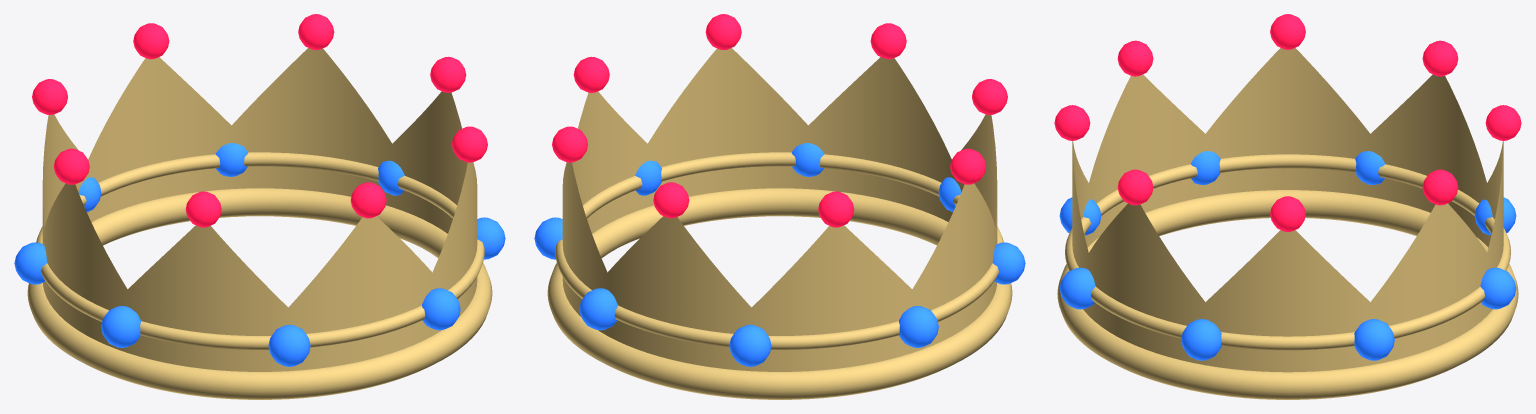
File: crown.glb
3 views of the same model, side by side, from view 1: azimuth 30°, elevation 25°; view 2: azimuth 150°, elevation 25°; view 3: azimuth 270°, elevation 25° (orthographic).
Visible parts, largest first — view 1: spin; view 2: spin; view 3: spin.
Part boxes in pixels (bbox=[...]): spin: bbox=[14, 14, 505, 399]; spin: bbox=[534, 14, 1025, 399]; spin: bbox=[1054, 14, 1521, 399].
Size of the model in its own units: 1.56 by 0.7376 by 1.56.
